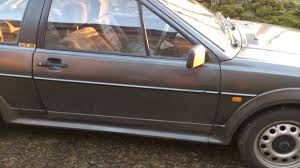Dent: (211, 118, 228, 140)
